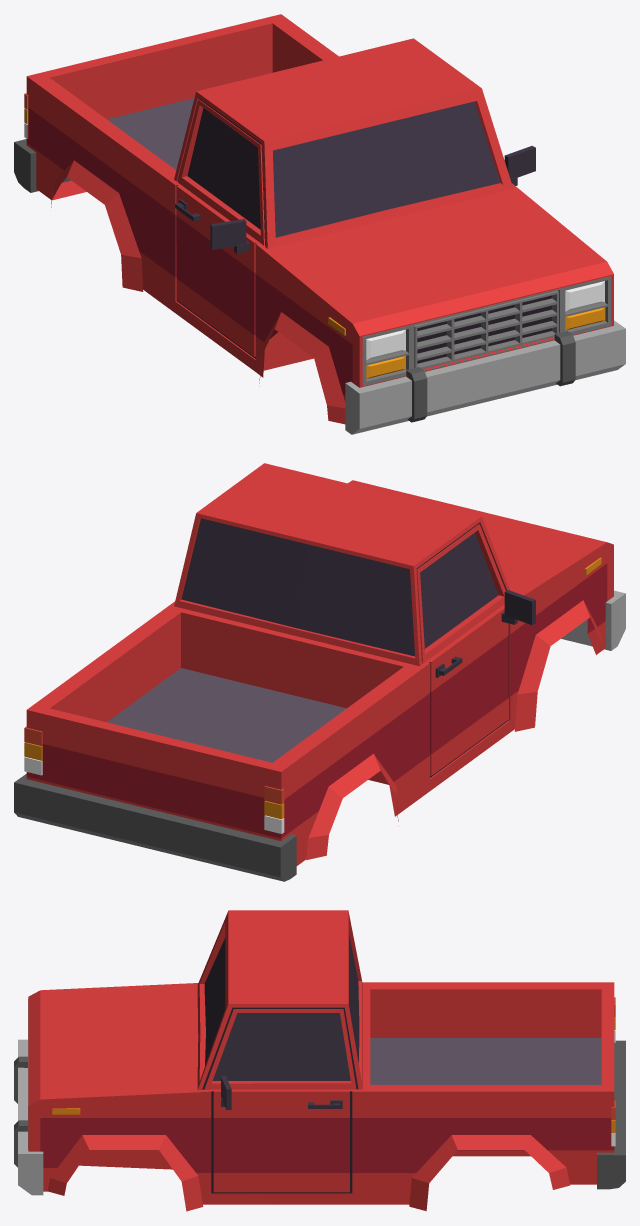
File: Carro separado.fbx
3 renders of one model, top to bottom at view 1: azimuth 30°, elevation 25°; view 2: azimuth 150°, elevation 25°; view 3: azimuth 270°, elevation 25°, orthographic. The views are drawn at different scales.
Parts seen in each view (by area): view 1: Car.004; view 2: Car.004; view 3: Car.004.
Part boxes in pixels (box(x1,y1,x2,y2)): Car.004: box(14, 14, 625, 434); Car.004: box(14, 463, 625, 881); Car.004: box(14, 910, 625, 1211).
Size of the model in its own units: 806 by 528 by 1501.
